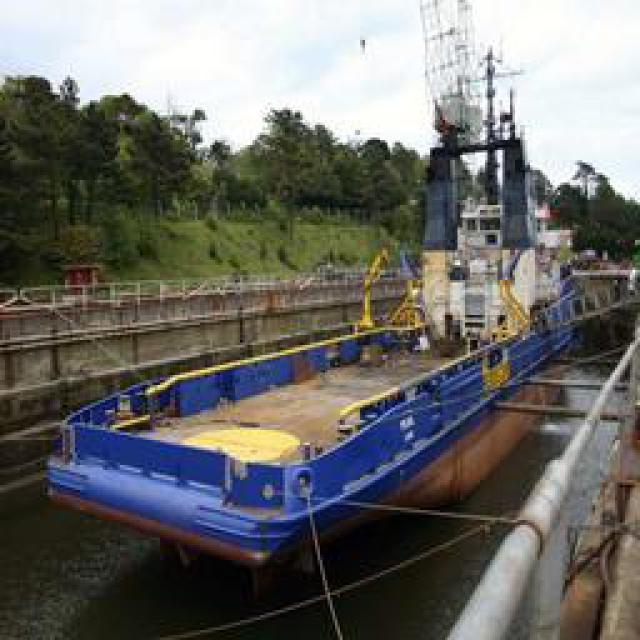Ship: (41, 266, 594, 586)
